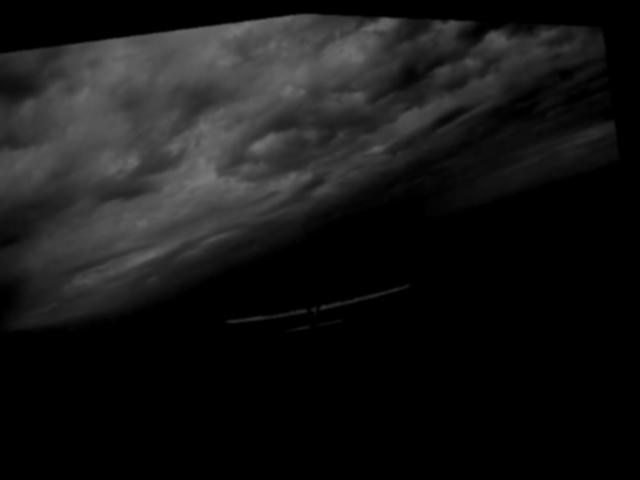hedef: (208, 259, 439, 365)
